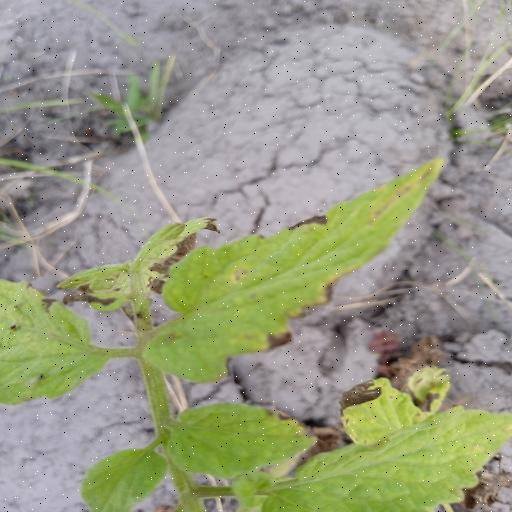Tomato_Brown_Spots: (142, 155, 454, 384)
